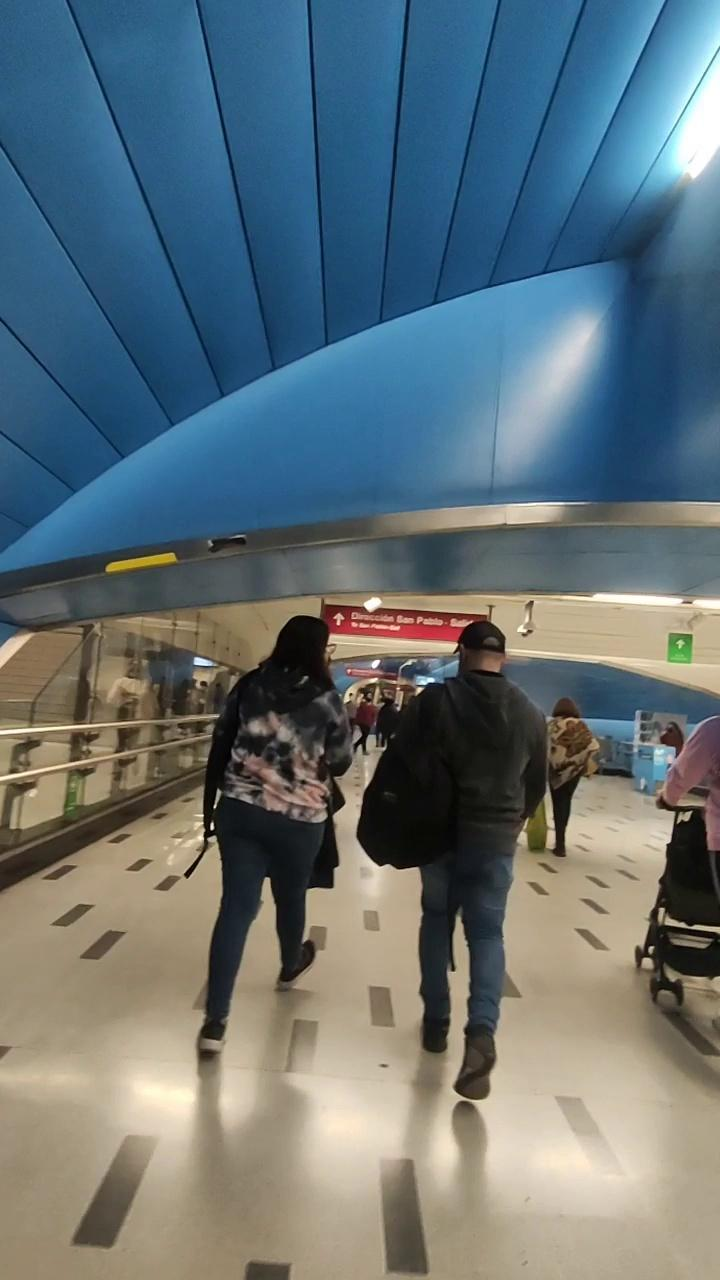up arrow: (328, 608, 350, 632)
